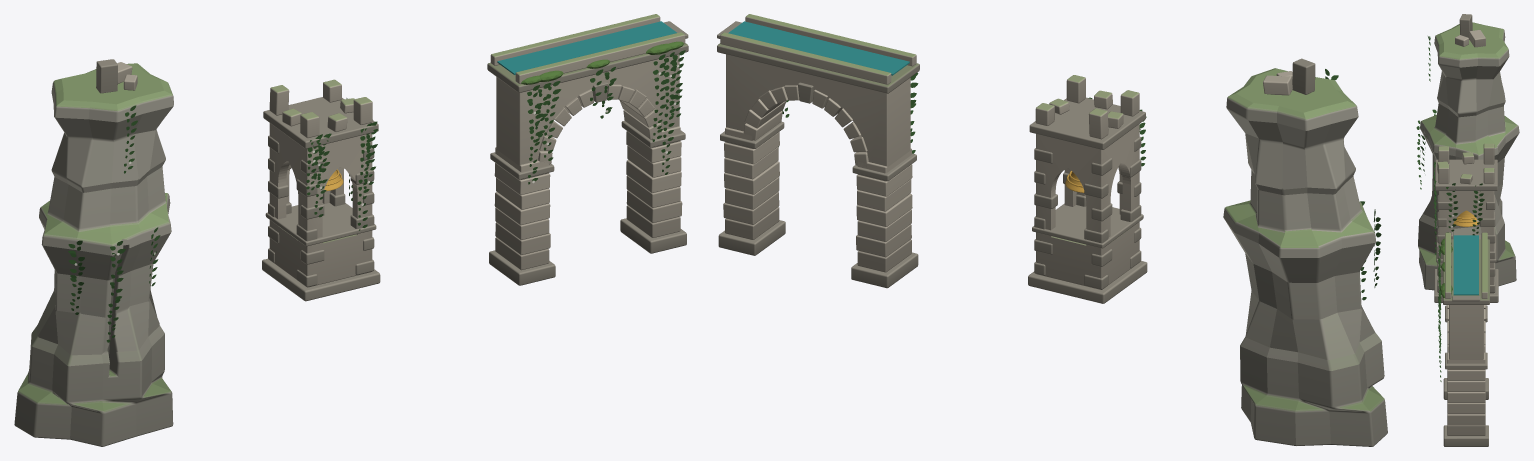
Rendered from hero_test.glb.
The picture shows the model from 3 angles, left to right: view 1: azimuth 30°, elevation 25°; view 2: azimuth 150°, elevation 25°; view 3: azimuth 270°, elevation 25°; orthographic projection. The views are drawn at different scales.
Visible parts, largest first — view 1: RockSpire, BelfryShaft, Spandrel, Channel, AqueductIvy, Cornice, ChannelWall-1, StringCourse, BelfryPlinth, ChannelWall1, Cornice.001, BelfryIvy (+16 smaller); view 2: RockSpire, BelfryShaft, Spandrel, Channel, Cornice, ChannelWall1, Cornice.001, StringCourse, BelfryPlinth, ChannelWall-1, PierPlinth-1, PierPlinth1 (+13 smaller); view 3: RockSpire, Spandrel, BelfryShaft, Channel, Cornice, Cornice.001, PierPlinth1, BelfryIvy, Pier1_1, Pier1_5, ChannelWall1, ChannelWall-1 (+24 smaller).
Boxes of the visible parts, box(x1,y1,x2,y2) form: RockSpire: box(14, 63, 173, 446); BelfryShaft: box(269, 123, 372, 287); Spandrel: box(496, 54, 679, 165); Channel: box(497, 21, 676, 74); AqueductIvy: box(527, 50, 685, 184); Cornice: box(263, 97, 378, 148); ChannelWall-1: box(515, 32, 685, 83); StringCourse: box(265, 203, 376, 246); BelfryPlinth: box(262, 258, 380, 301); ChannelWall1: box(490, 14, 660, 65); Cornice.001: box(487, 43, 688, 92); BelfryIvy: box(306, 98, 377, 230); RockSpire: box(1223, 68, 1387, 446); BelfryShaft: box(1036, 124, 1139, 289); Spandrel: box(726, 54, 910, 166); Channel: box(728, 21, 909, 75); Cornice: box(1029, 97, 1145, 149); ChannelWall1: box(720, 32, 891, 84); Cornice.001: box(717, 43, 919, 93); StringCourse: box(1032, 203, 1143, 248); BelfryPlinth: box(1028, 261, 1147, 303); ChannelWall-1: box(745, 14, 916, 66); PierPlinth-1: box(851, 252, 918, 288); PierPlinth1: box(718, 220, 785, 255); RockSpire: box(1418, 22, 1519, 290); Spandrel: box(1449, 305, 1483, 359); BelfryShaft: box(1438, 191, 1494, 293); Channel: box(1453, 235, 1478, 295); Cornice: box(1435, 159, 1497, 190); Cornice.001: box(1443, 239, 1489, 304); PierPlinth1: box(1443, 425, 1488, 446); BelfryIvy: box(1433, 162, 1484, 254); Pier1_1: box(1447, 413, 1485, 425); Pier1_5: box(1447, 369, 1485, 380); ChannelWall1: box(1481, 232, 1487, 298); ChannelWall-1: box(1445, 232, 1451, 298).
Size of the model in its own units: 31.82 by 16.43 by 5.92.
